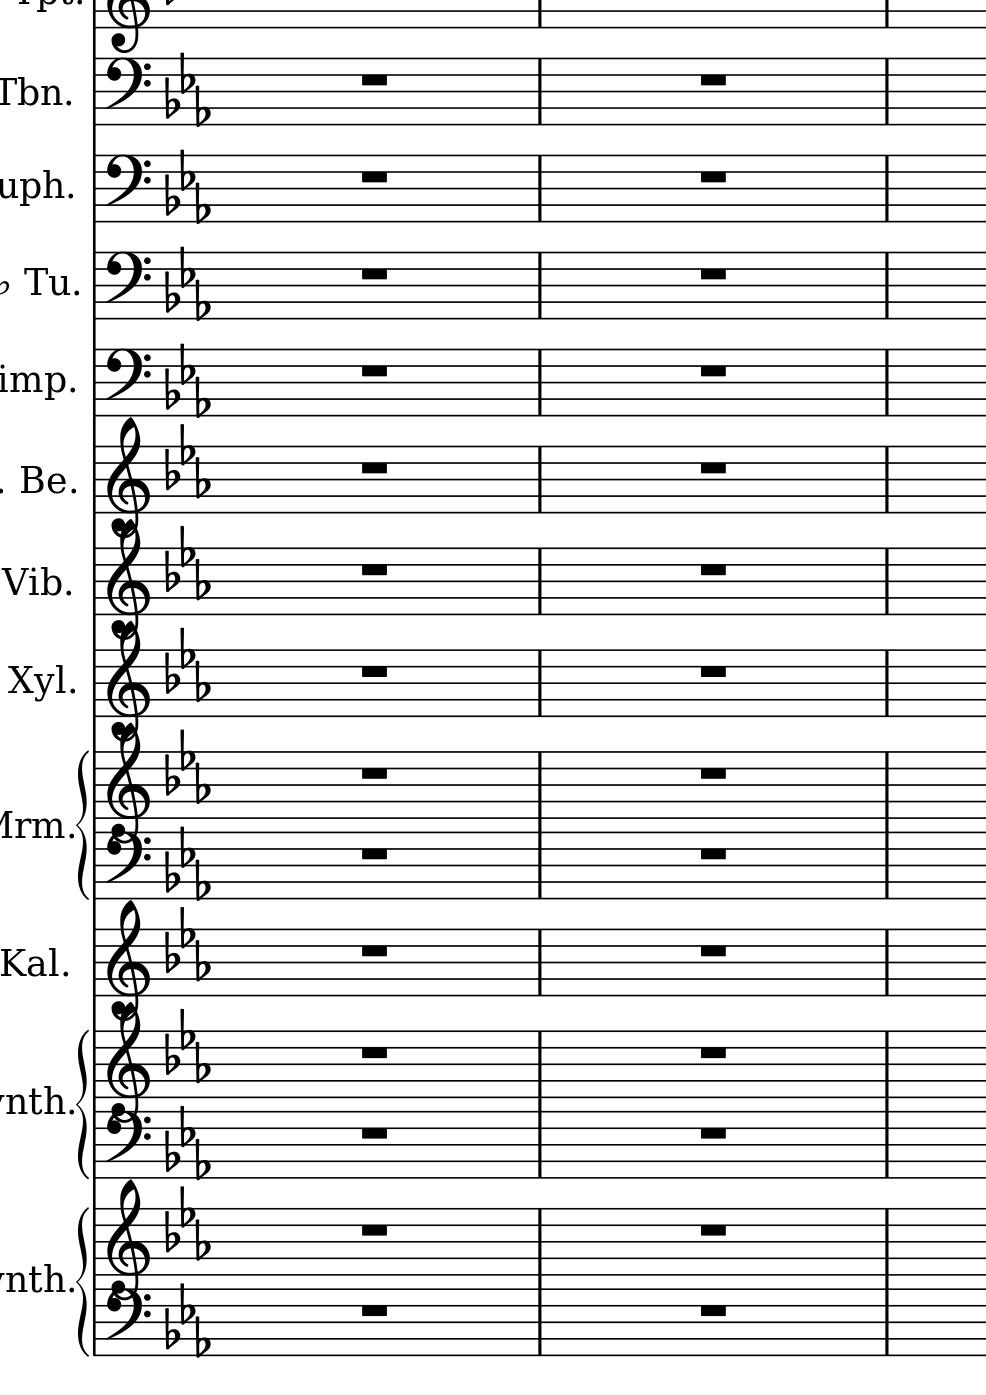Brace: (74, 1205, 89, 1358), (74, 1029, 89, 1180), (74, 749, 89, 900)
E_F: (164, 244, 210, 322), (164, 1184, 210, 1262), (164, 342, 210, 418), (164, 525, 210, 602), (164, 627, 210, 703), (163, 424, 210, 498), (164, 147, 210, 223), (164, 905, 210, 981), (164, 1008, 210, 1083), (164, 1105, 210, 1180), (163, 51, 210, 125), (164, 729, 210, 804), (164, 1283, 210, 1358), (164, 826, 210, 900)
Fclef: (104, 346, 152, 417), (104, 153, 152, 223), (104, 250, 152, 320)
Rests1: (695, 659, 731, 683), (695, 761, 731, 784), (695, 1041, 731, 1064), (695, 1298, 731, 1321), (695, 358, 730, 381), (695, 456, 730, 479), (356, 841, 391, 865), (356, 1121, 391, 1144), (696, 1121, 730, 1144), (695, 164, 730, 187), (695, 261, 730, 284), (695, 558, 731, 580), (356, 261, 391, 284), (356, 359, 391, 381), (356, 456, 391, 478), (356, 660, 391, 682), (356, 762, 391, 784), (696, 842, 730, 865), (696, 939, 730, 962), (356, 165, 392, 187), (356, 1042, 392, 1063), (356, 1219, 392, 1240), (696, 1219, 731, 1240), (695, 69, 731, 90), (356, 558, 391, 580), (356, 939, 391, 961), (356, 1299, 391, 1320), (356, 70, 392, 89)
Single_barline: (531, 1273, 550, 1353), (531, 817, 548, 895), (531, 1097, 548, 1175), (531, 929, 548, 995), (531, 58, 547, 124), (531, 252, 547, 318), (531, 349, 547, 415), (531, 446, 547, 512), (531, 548, 547, 614), (531, 650, 547, 716), (531, 156, 547, 221), (88, 59, 102, 125), (88, 155, 102, 221), (879, 251, 894, 317), (88, 252, 102, 318), (879, 546, 894, 613), (879, 649, 894, 715), (879, 155, 894, 220), (879, 349, 894, 414), (879, 446, 894, 511), (879, 929, 894, 994), (879, 58, 894, 122), (88, 929, 101, 997), (88, 649, 101, 716), (88, 350, 101, 416), (532, 752, 547, 813), (532, 1032, 547, 1092), (88, 446, 100, 514), (88, 548, 100, 615), (532, 1210, 547, 1268)
